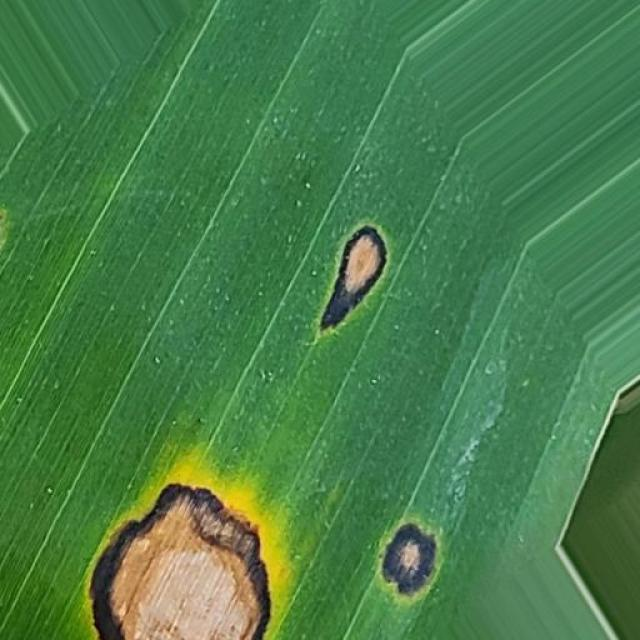Early_rust: (77, 438, 279, 640), (315, 218, 443, 353), (345, 481, 467, 617)
